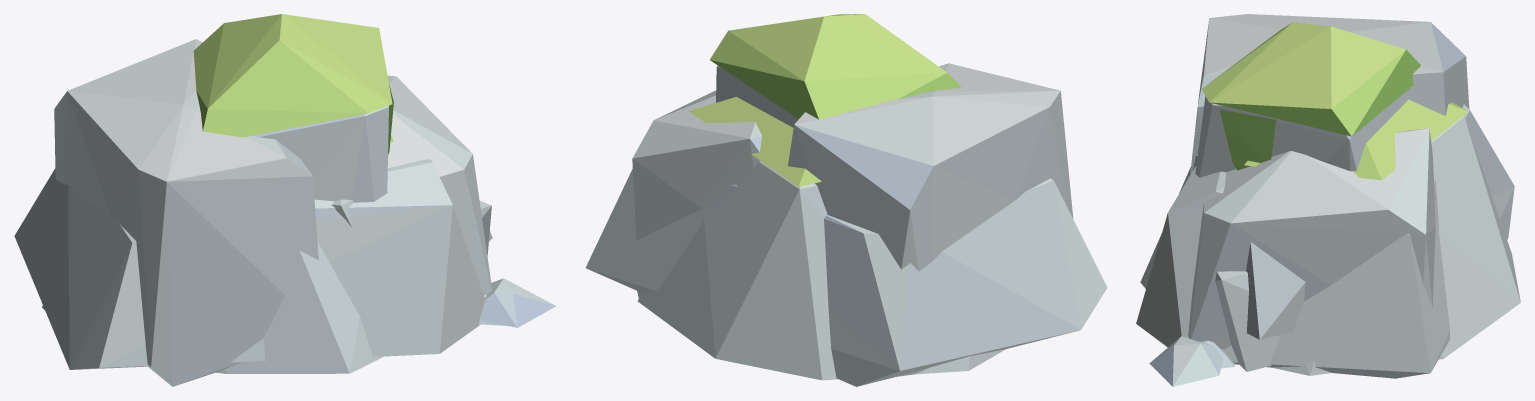
The model's file is meadow_rocks_low.glb.
The picture shows the model from 3 angles, left to right: view 1: azimuth 30°, elevation 25°; view 2: azimuth 150°, elevation 25°; view 3: azimuth 270°, elevation 25°; orthographic projection. The views are drawn at different scales.
Parts seen in each view (by area): view 1: rock_c, rock_a, rock_b, rock_d; view 2: rock_c, rock_a, rock_d, rock_b; view 3: rock_c, rock_a, rock_b, rock_d.
Boxes of the visible parts, x1=… form: rock_c: x1=54, y1=39, x2=492, y2=386; rock_a: x1=14, y1=159, x2=556, y2=369; rock_b: x1=193, y1=14, x2=491, y2=255; rock_d: x1=42, y1=136, x2=504, y2=373; rock_c: x1=632, y1=63, x2=1073, y2=376; rock_a: x1=585, y1=169, x2=1107, y2=386; rock_d: x1=638, y1=97, x2=1005, y2=380; rock_b: x1=710, y1=14, x2=961, y2=127; rock_c: x1=1188, y1=14, x2=1469, y2=349; rock_a: x1=1136, y1=104, x2=1514, y2=386; rock_b: x1=1195, y1=22, x2=1420, y2=371; rock_d: x1=1140, y1=99, x2=1520, y2=375.
Size of the model in its own units: 0.9839 by 0.6127 by 0.79.
